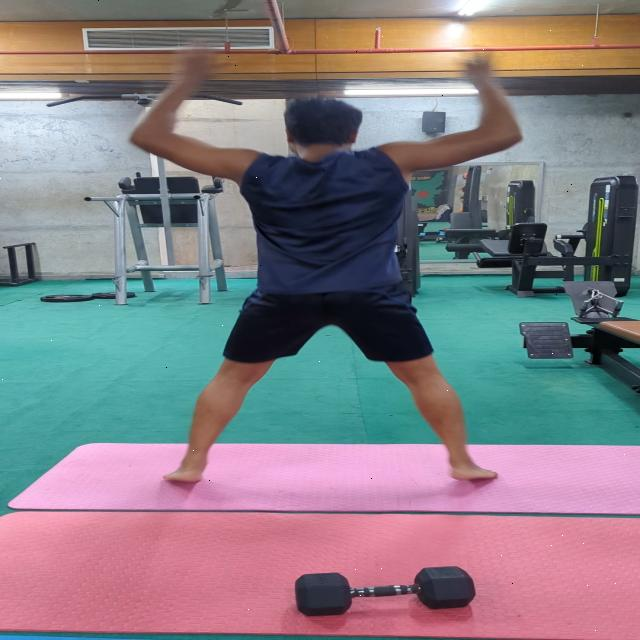Normal_JumpingJacks: (110, 39, 526, 490)
